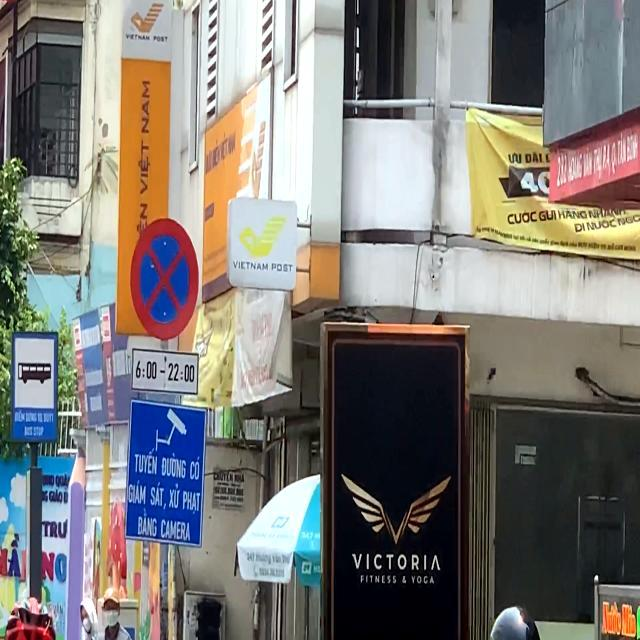Ben xe buyt: (12, 332, 56, 442)
Cam dung xe va do xe: (130, 218, 199, 340)
